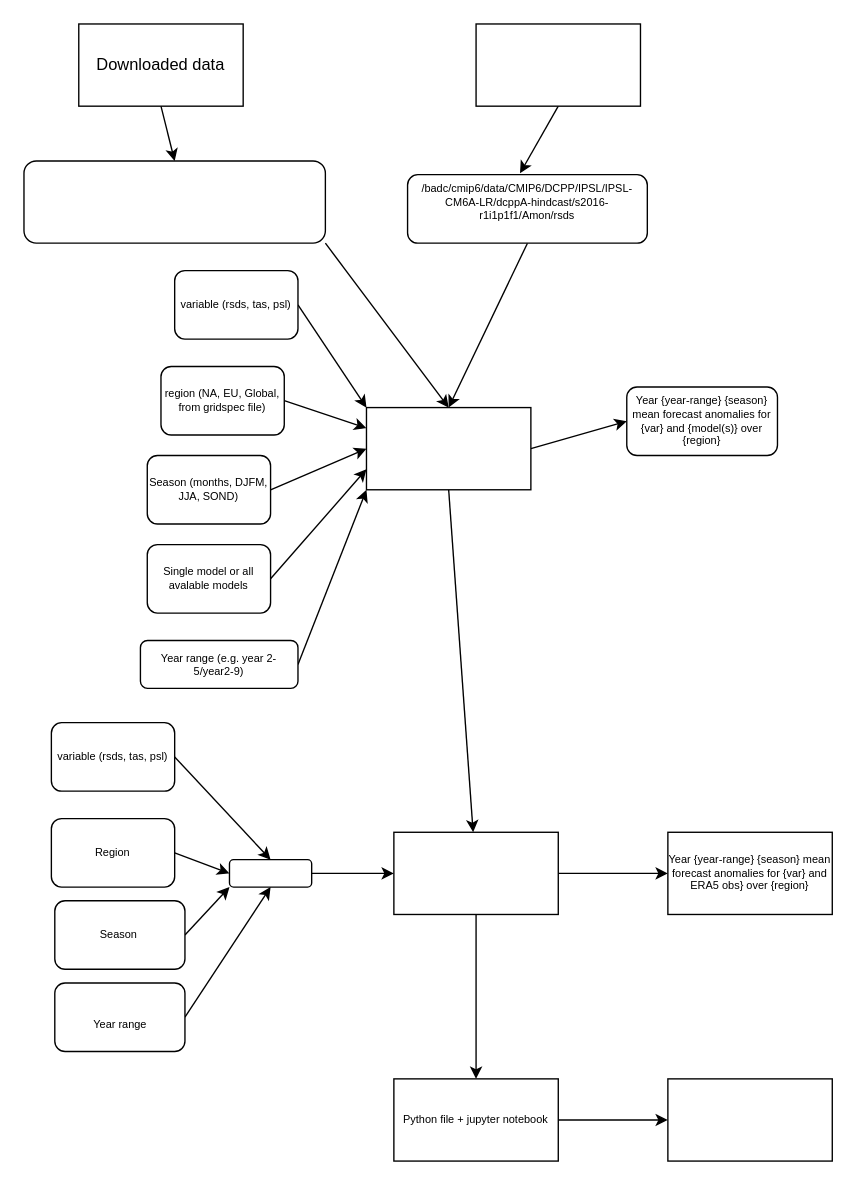
Image size: 856x1185. Some labels were removed from this diagram. Each missing label, with the box of its shape:
/work/xfc/vol5/user_cache/benhutch/{var_name}/{model}/*.nc: (23, 160, 325, 243)
Calcaulte ACC, MSSS, RPC and significance: (667, 1078, 832, 1161)
ERA5: (228, 858, 312, 887)
Model processing bash script(s): (365, 406, 531, 490)
Obs processing bash script(s): (393, 831, 558, 914)
Preloaded JASMIN data: (475, 23, 640, 106)
